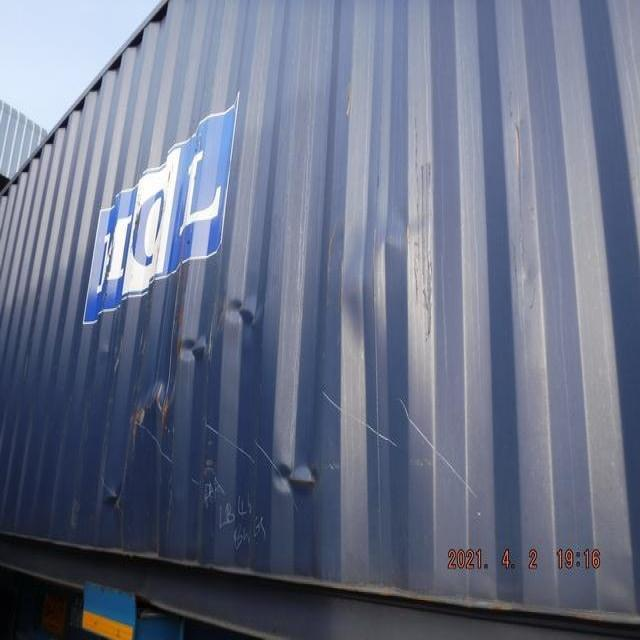dent: (93, 268, 330, 532), (325, 201, 437, 345)
